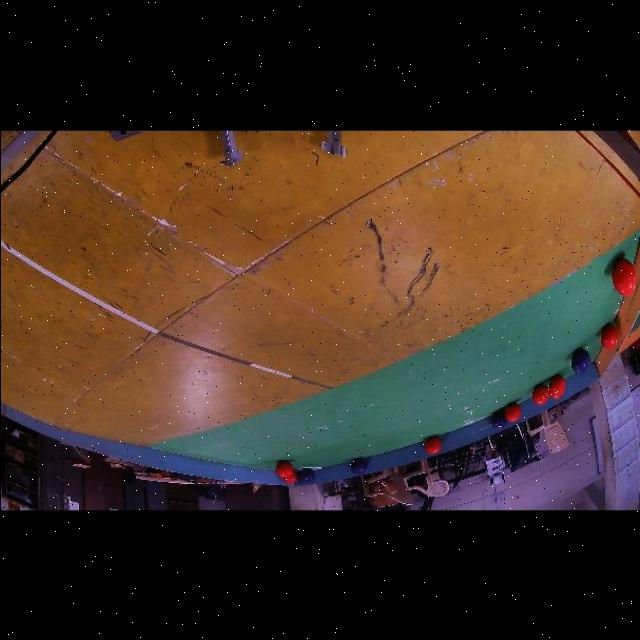P: (571, 348, 590, 373), (491, 410, 508, 429), (351, 458, 366, 475), (299, 468, 315, 483), (294, 475, 302, 485)
R: (612, 258, 636, 295), (600, 324, 617, 349), (531, 384, 550, 405), (504, 402, 521, 422), (549, 374, 566, 394), (275, 460, 294, 477), (425, 436, 442, 454), (282, 471, 298, 484), (550, 390, 563, 399)
